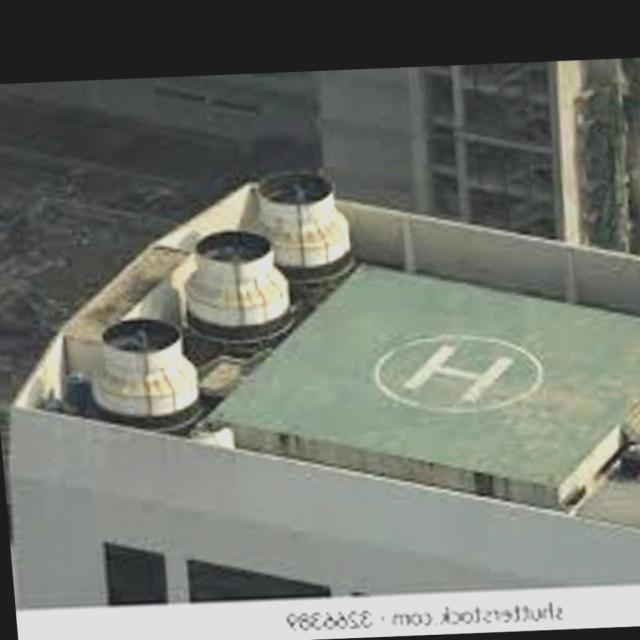helipad: (369, 330, 547, 414)
